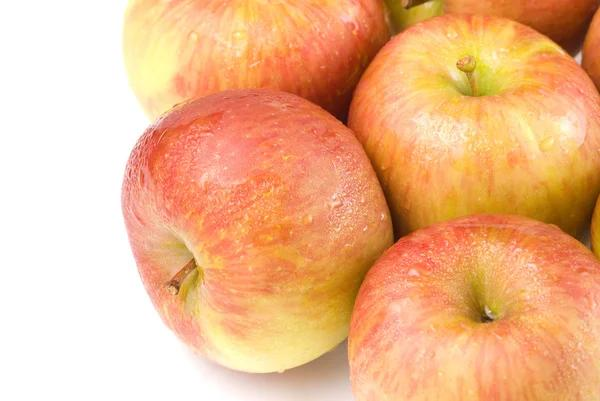Apple: (109, 82, 401, 377), (351, 11, 600, 232)
